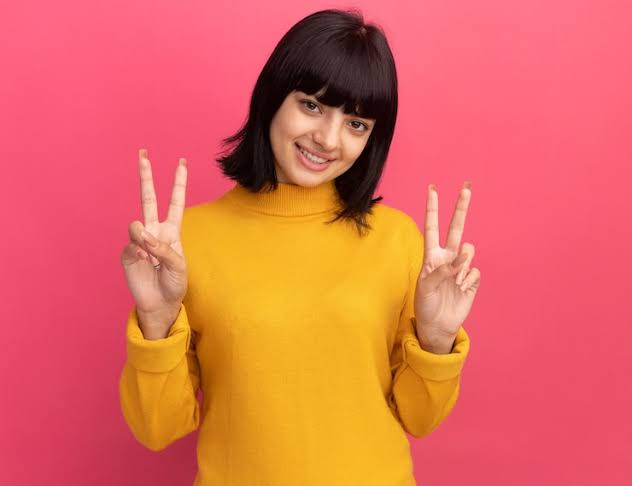peace_sign: (115, 142, 201, 312), (413, 171, 487, 335)
